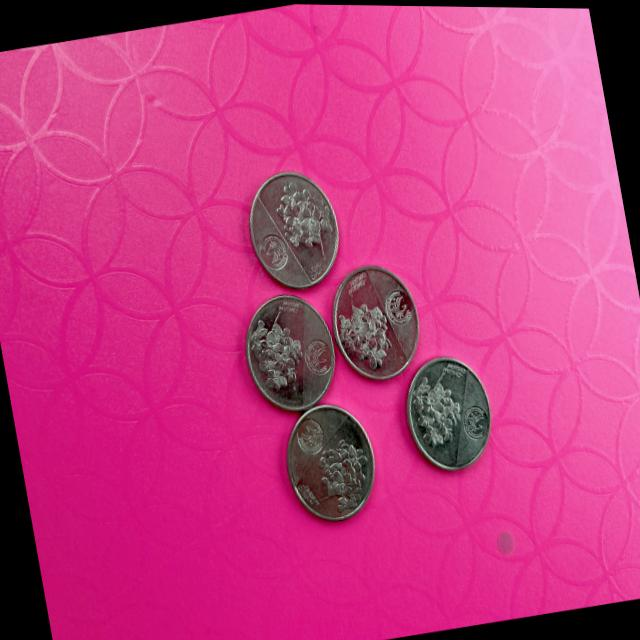1_New_Back: (267, 171, 334, 262)
